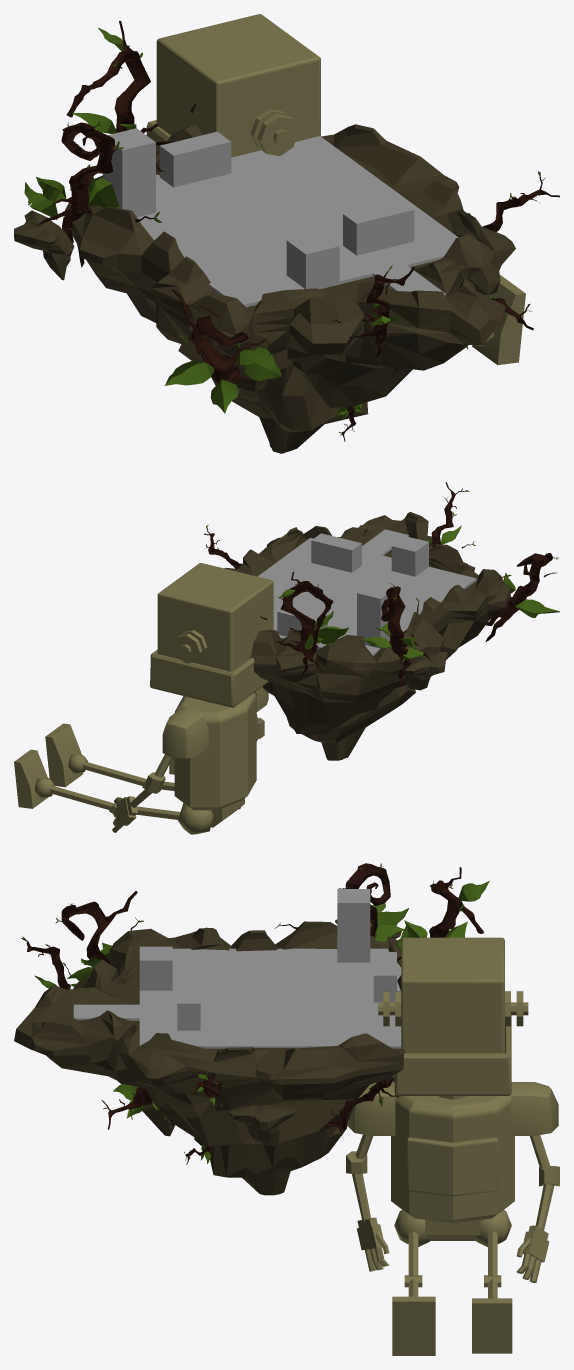
Rendered from Plant scene-platform.FBX.
3 views of the same model, one above another, from view 1: azimuth 30°, elevation 25°; view 2: azimuth 150°, elevation 25°; view 3: azimuth 270°, elevation 25° (orthographic). The views are drawn at different scales.
Parts seen in each view (by area): view 1: Cylinder001, pasted__FFloor, polySurface57; view 2: polySurface57, Cylinder001, pasted__FFloor; view 3: polySurface57, Cylinder001, pasted__FFloor.
Part boxes in pixels (left/top/right/bottom): Cylinder001: left=14, top=21, right=559, bottom=453; pasted__FFloor: left=103, top=128, right=458, bottom=307; polySurface57: left=146, top=14, right=525, bottom=365; polySurface57: left=14, top=563, right=273, bottom=834; Cylinder001: left=204, top=482, right=559, bottom=760; pasted__FFloor: left=257, top=529, right=476, bottom=655; polySurface57: left=346, top=937, right=559, bottom=1355; Cylinder001: left=14, top=863, right=489, bottom=1195; pasted__FFloor: left=73, top=889, right=401, bottom=1076.
Bounding box in the file's own units: 158 × 115 × 166.
